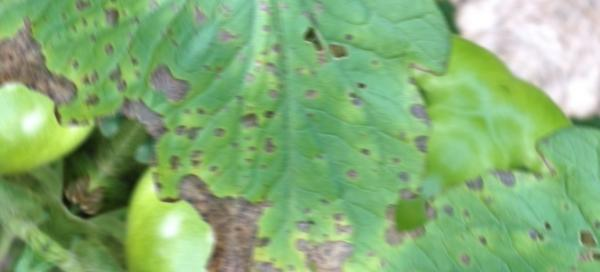Tomato Septoria leaf spot: (33, 0, 556, 272)
